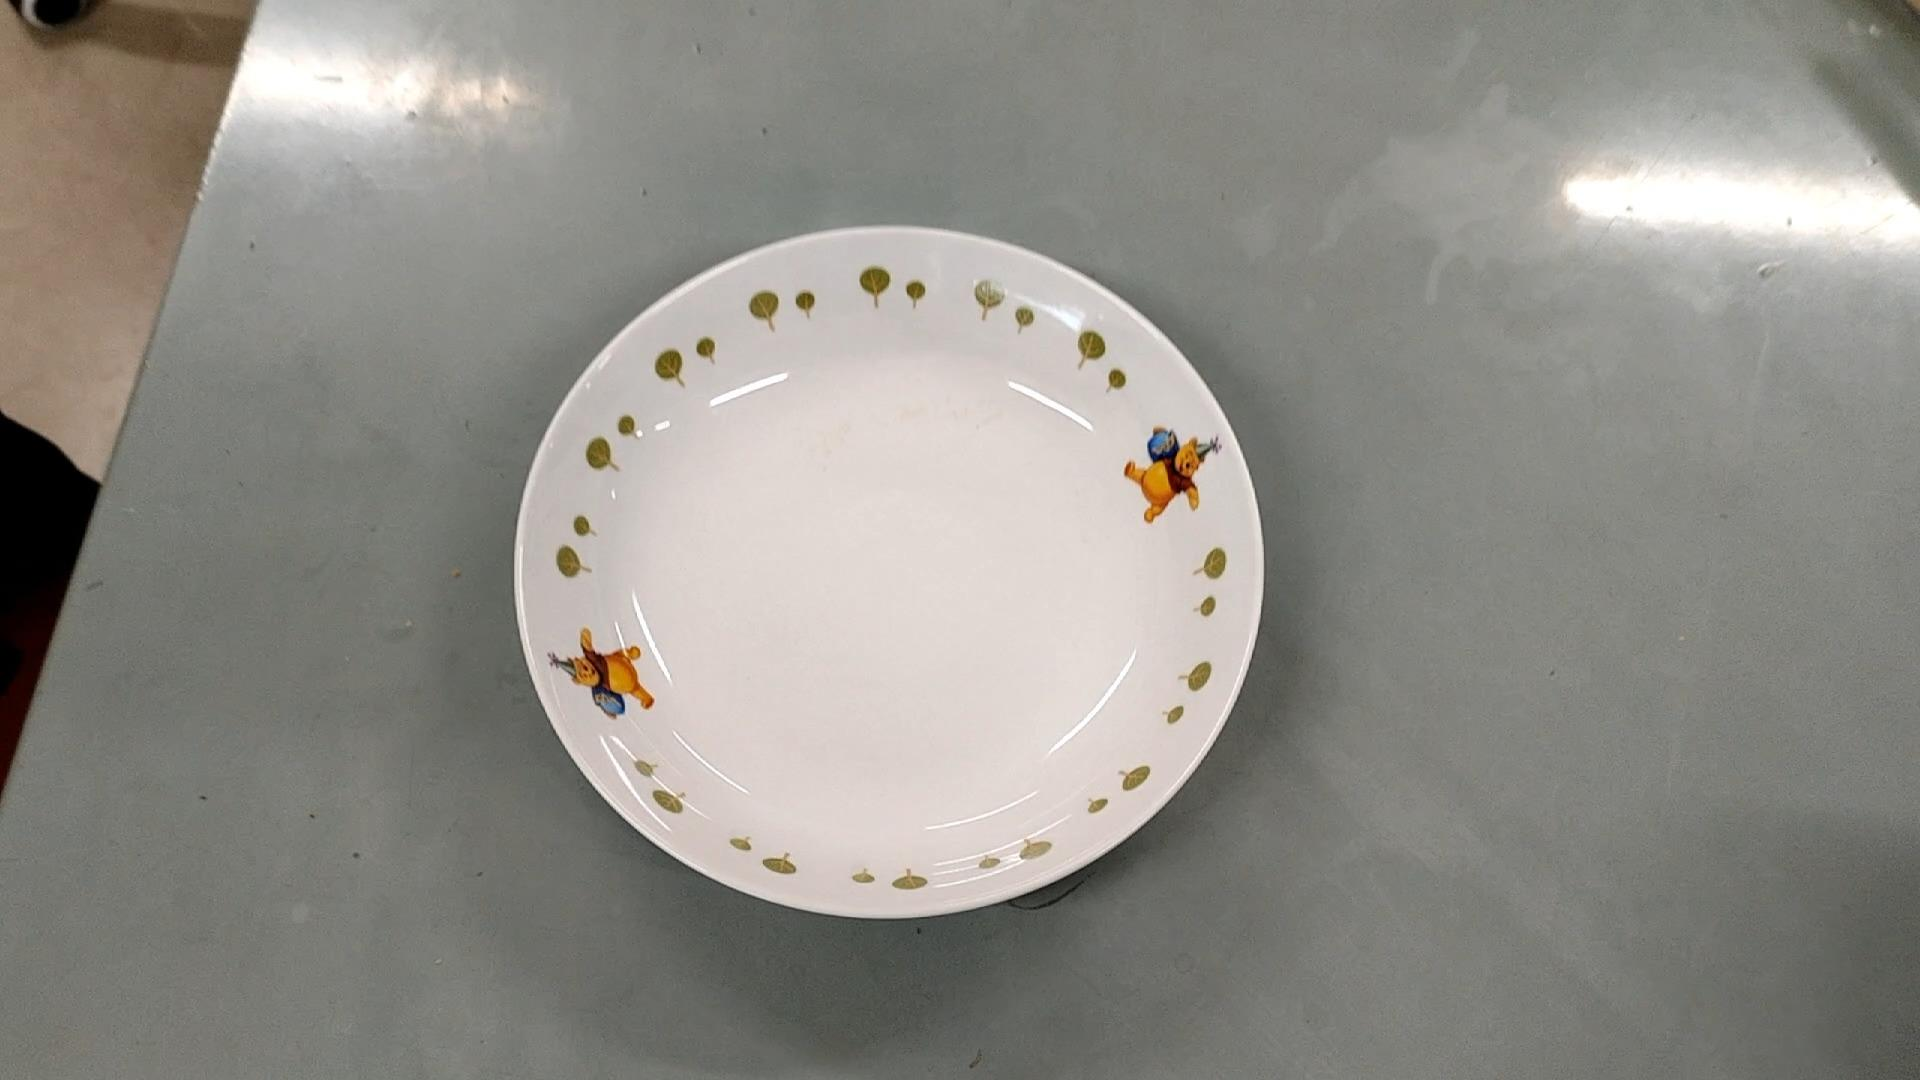plate: (515, 228, 1259, 922)
